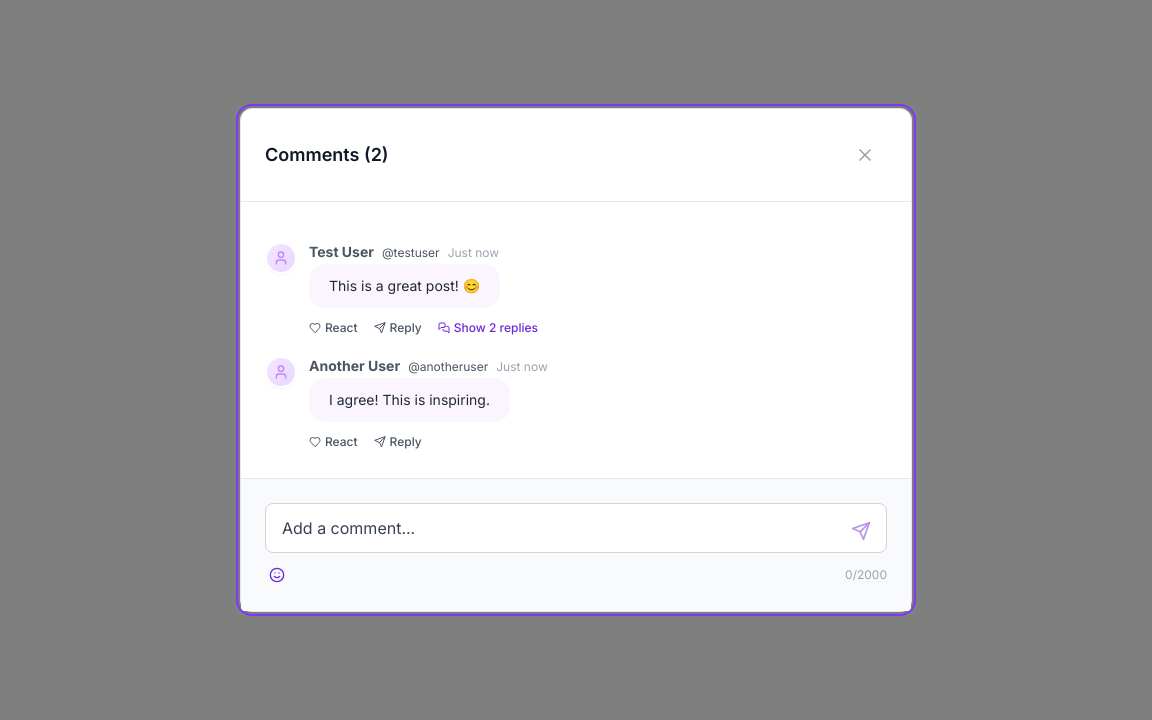
CommentsModal › inserts emoji into main comment input and keeps focus
In the text box labelled "Add a comment": coordinates (576, 528) [265,503,887,553], type "Hello"
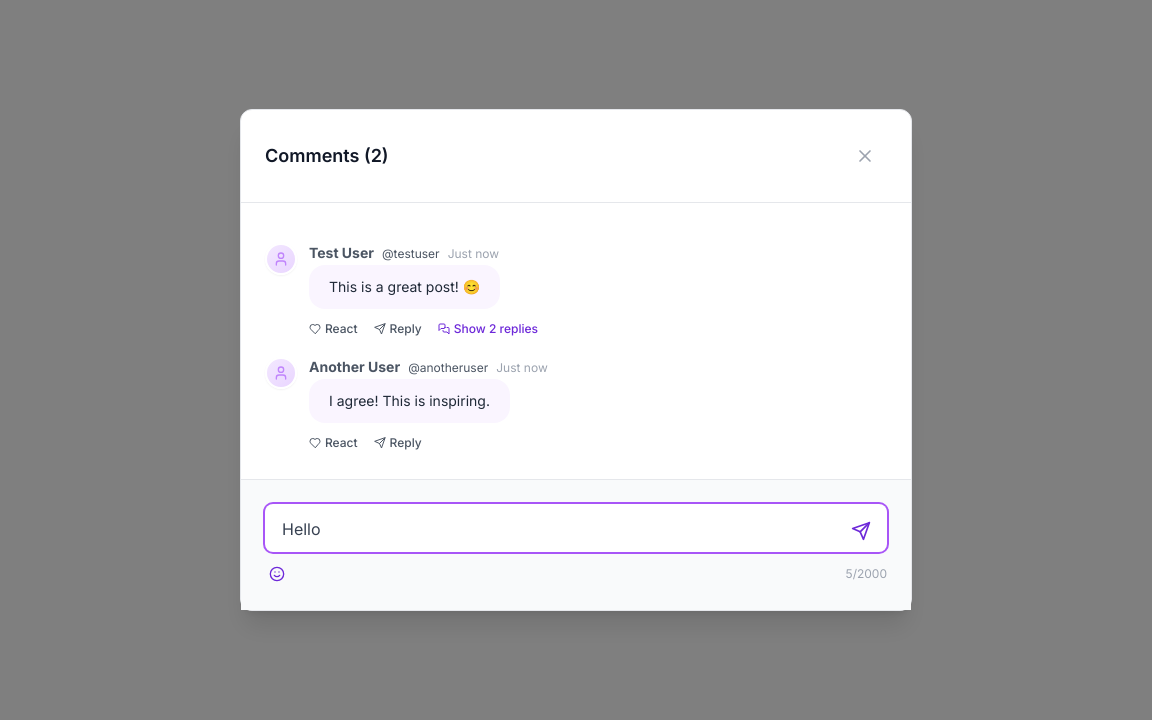
Click the button named "Open emoji picker for comment": coordinates (277, 574) [265,562,289,586]
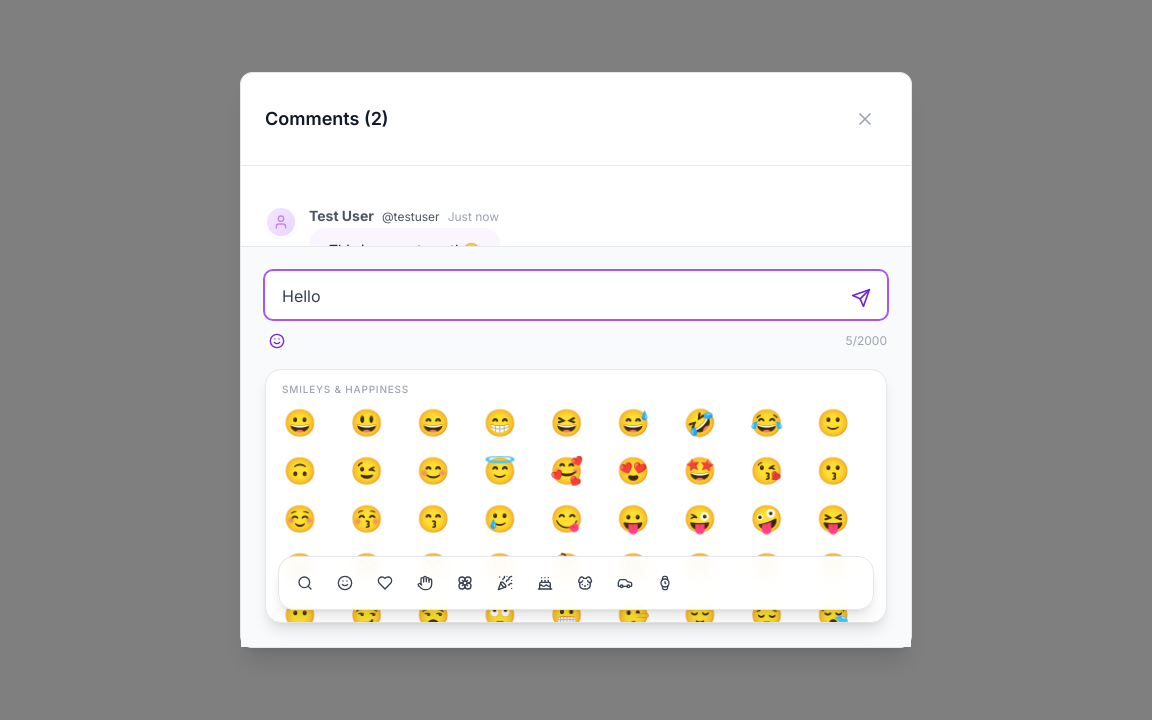
Click the button titled "grinning face": coordinates (300, 423) [278,401,322,445]
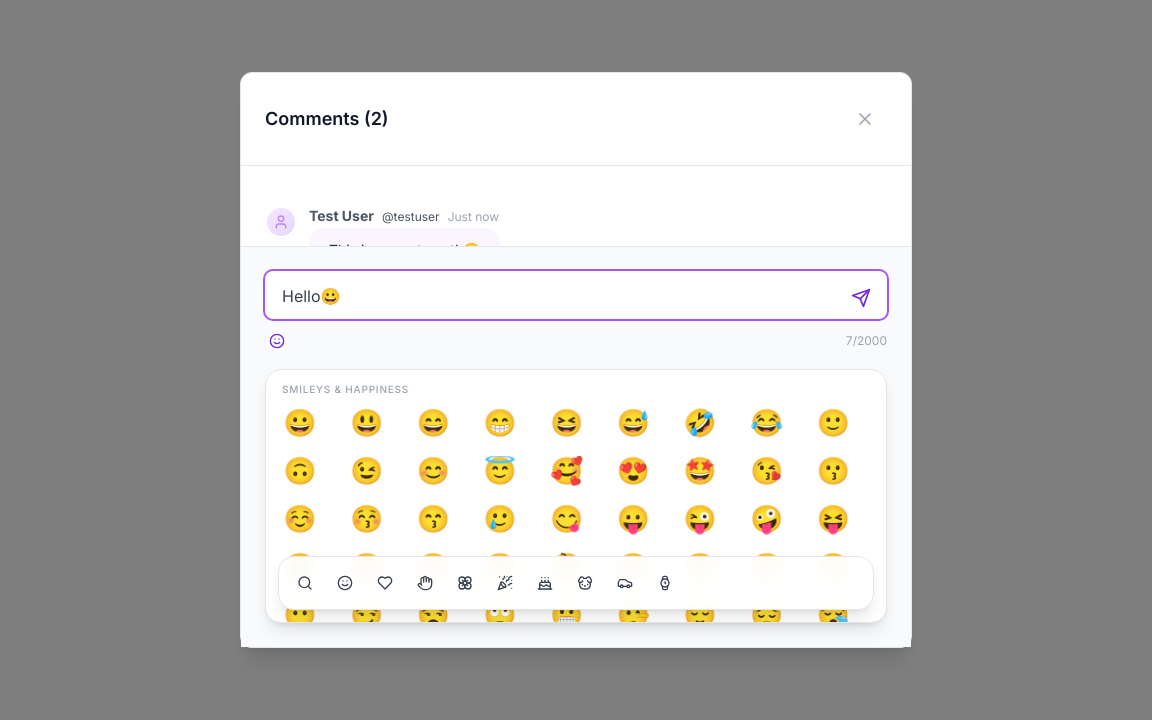
Check: the dialog is shown, box [240,72,912,648]
Check: the element showing "Smileys & Happiness 😀 😃 😄 😁 😆 😅 🤣 😂 🙂 🙃 😉 😊 😇 🥰 😍 🤩 😘 😗 ☺️ 😚" is shown, box [265,369,887,623]
Check: the text box named "Add a comment" holds "Hello😀", box [265,271,887,319]
